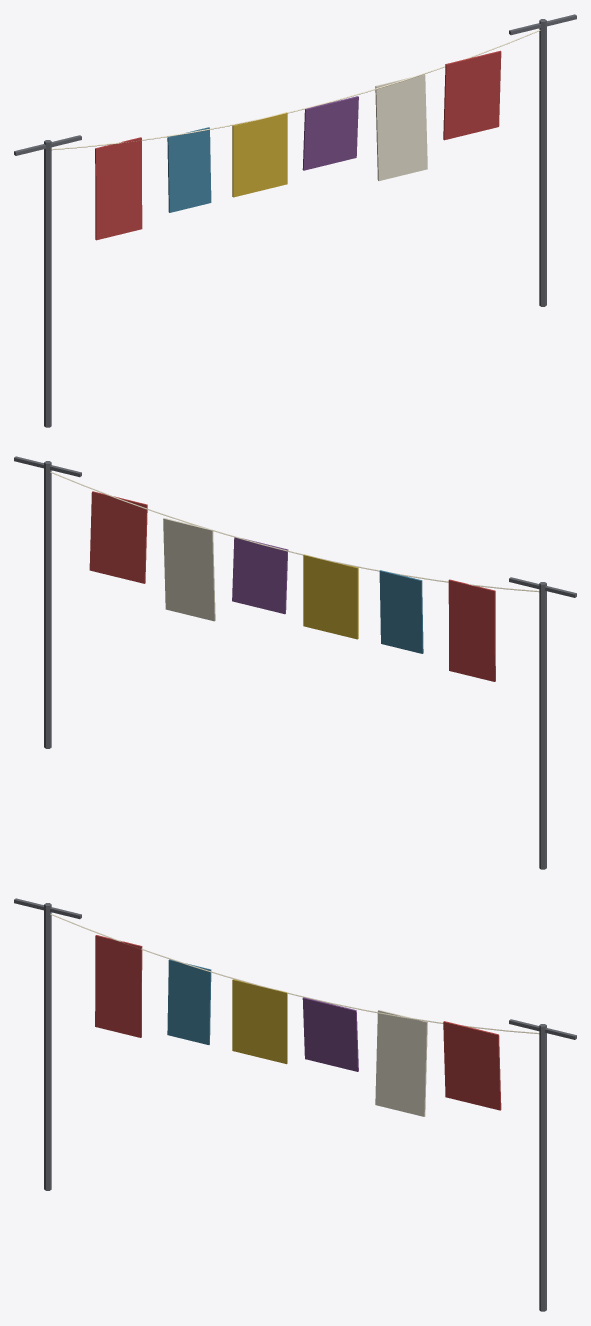
The model's file is clothesline.glb.
The picture shows the model from 3 angles, top to bottom: view 1: azimuth 30°, elevation 25°; view 2: azimuth 150°, elevation 25°; view 3: azimuth 330°, elevation 25°; orthographic projection.
Visible parts, largest first — view 1: clothesline; view 2: clothesline; view 3: clothesline.
Part boxes in pixels (x1,y1,x2,y2): clothesline: [14, 14, 576, 427]; clothesline: [14, 456, 576, 869]; clothesline: [14, 898, 576, 1311].
Size of the model in its own units: 13.6 by 6.6 by 0.16.
